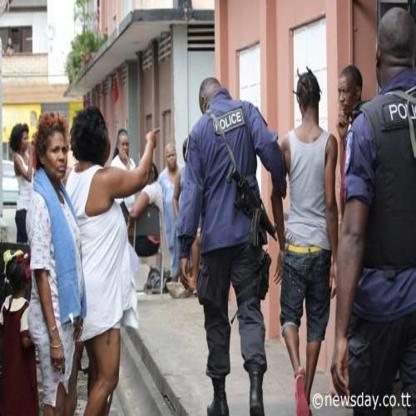face: (46, 133, 69, 178), (338, 78, 357, 113), (100, 128, 112, 162), (167, 148, 177, 168), (120, 136, 129, 156), (21, 133, 29, 150), (9, 39, 12, 45)
